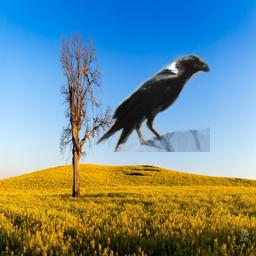Crow: (91, 51, 210, 152)
